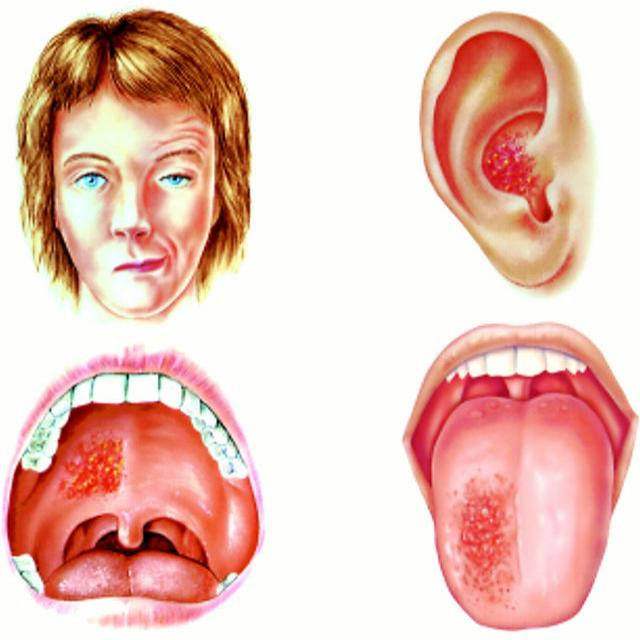herpes zoster: (443, 468, 533, 618), (56, 424, 137, 506), (487, 125, 553, 209)
